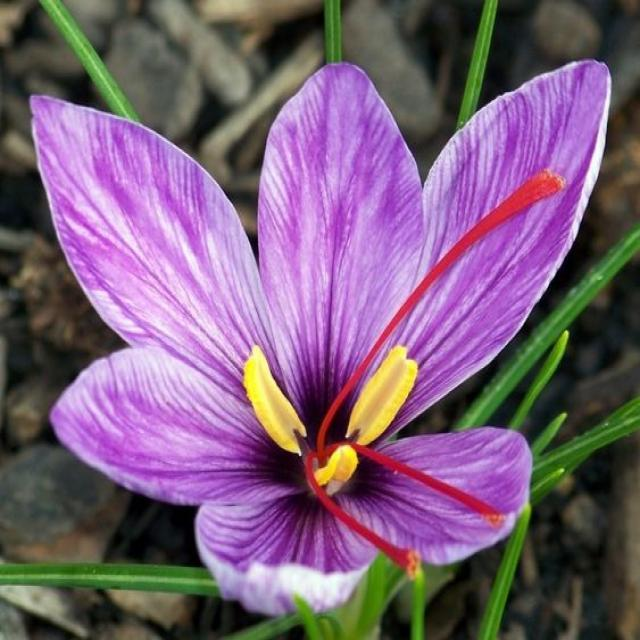Flower: (25, 60, 615, 620)
stigma: (314, 164, 569, 453), (323, 440, 510, 532), (302, 449, 424, 580)
